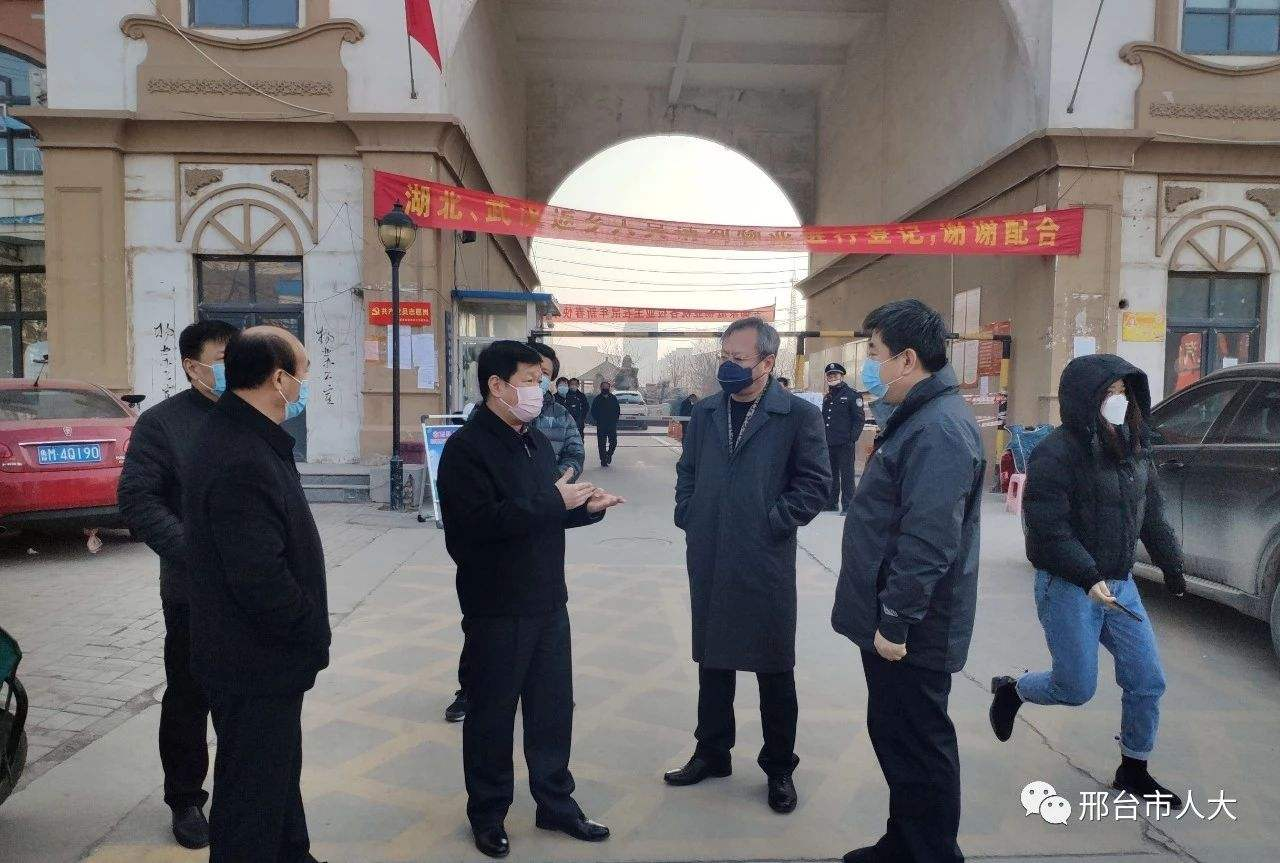Mask: (251, 330, 318, 425), (858, 326, 918, 412), (174, 331, 238, 399), (491, 359, 547, 432), (712, 326, 764, 400), (1096, 376, 1141, 432)
